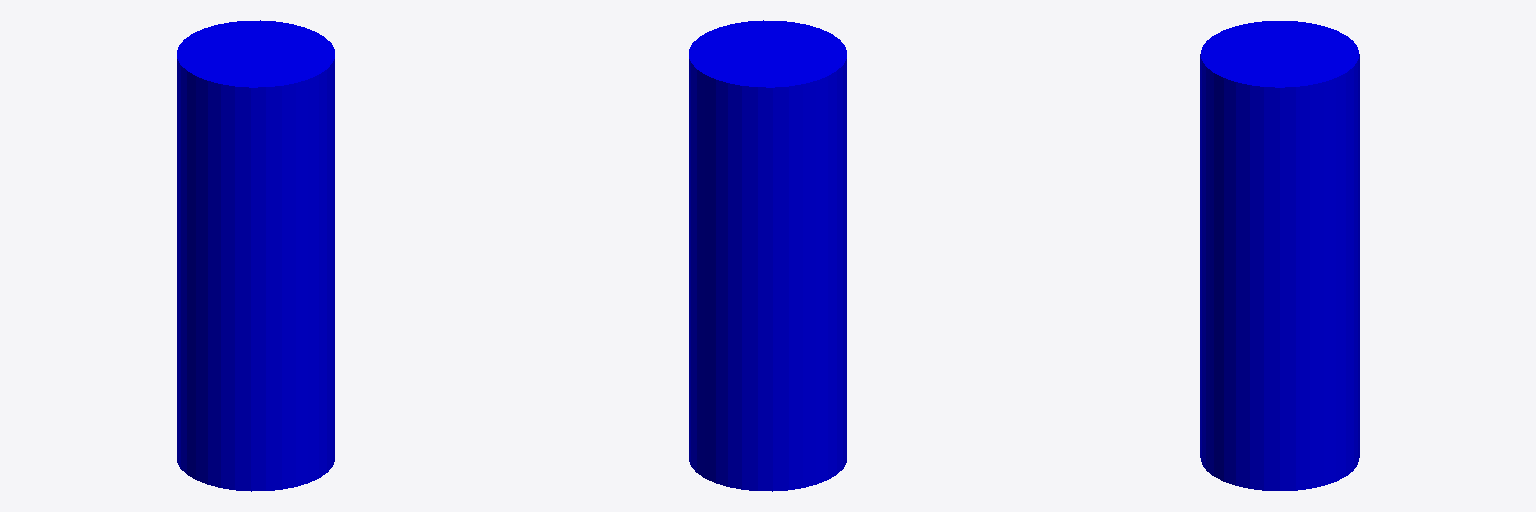
The robot description file, URDF, robot "can_2":
<?xml version="1.0"?>
<robot name="can_2">
	<link name="base">
	<inertial>
        	 <origin xyz="0 0 0.07" rpy="0 0 0"/>
        	 <mass value="0.05"/>
        	 <inertia ixx="0.000683333"  ixy="0"  ixz="0" iyy="0.000683333" iyz="0" izz="0.000683333" />
       </inertial>
	<visual>
                <origin xyz="0.0 0.0 0.07" rpy="0 0 0" />
                <!--origin xyz="0.0 0.0 0.055" rpy="0 0 0" /-->
		<geometry>
                         <!--<mesh filename="can/cokecan2.dae" scale="0.0254 0.0254 0.0254"/>-->
            <cylinder length="0.14" radius="0.025"/>
      		</geometry>
	    <material>
			<color rgba="0 0 1 1" />
	    </material>
		</visual>
  	 <collision>
		<!--origin xyz="0.0 0.0 -0.00255" rpy="0 0 0"/-->
		<origin xyz="0.0 0.0 0.08" rpy="0 0 0"/>
            <geometry>
       			 <!--mesh filename="can/cokecan.dae"  scale="0.0254 0.0254 0.0254"/-->
                         <cylinder length="0.14" radius="0.025"/>
            </geometry>
	    <material>
			<color rgba="0 0 1 1" />
	    </material>
        </collision>
	</link>
</robot>

--- Facts derived from the render (not from the file) ---
The picture shows the robot from 3 angles, left to right: view 1: azimuth 30°, elevation 25°; view 2: azimuth 150°, elevation 25°; view 3: azimuth 270°, elevation 25°; orthographic projection.
Robot: can_2 — 1 links, 0 joints (none); root link base; default pose: all joints at 0.
Links seen in each view (by area): view 1: base; view 2: base; view 3: base.
Link boxes in pixels (x1,y1,x2,y2): base: (177, 20, 334, 491); base: (689, 20, 846, 491); base: (1200, 21, 1359, 490).
Size in the robot's own frame: 0.05 by 0.05 by 0.14 metres.
Geometry: primitives only (box / cylinder / sphere), no mesh files.
